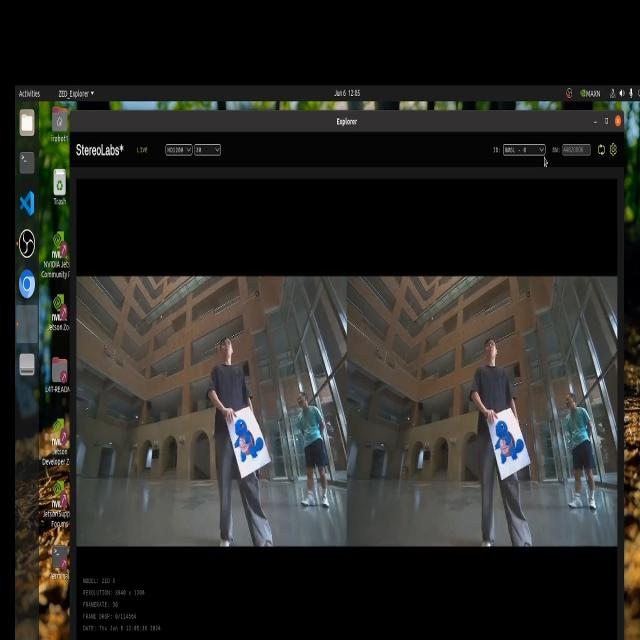blue: (487, 426, 531, 476), (227, 414, 266, 467)
